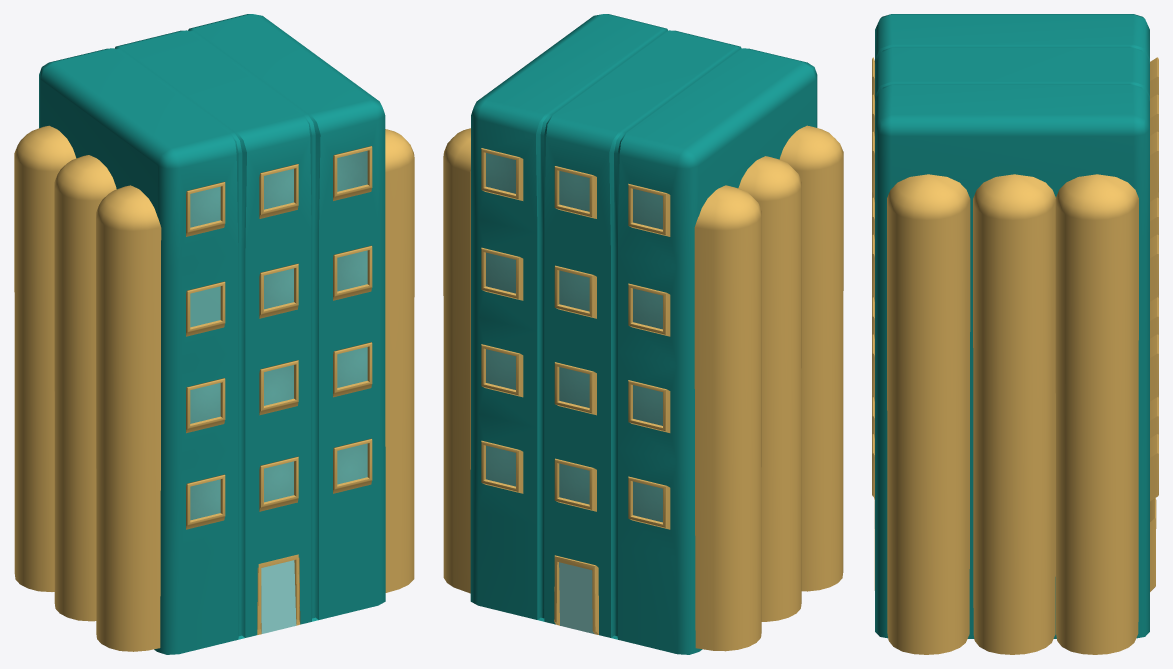
The model's file is SM_Skyscraper_17.fbx.
3 renders of one model, left to right at view 1: azimuth 30°, elevation 25°; view 2: azimuth 150°, elevation 25°; view 3: azimuth 270°, elevation 25°, orthographic. The views are drawn at different scales.
Visible parts, largest first — view 1: SM_Skyscraper_17; view 2: SM_Skyscraper_17; view 3: SM_Skyscraper_17.
Boxes of the visible parts, x1,y1,x2,y2 form: SM_Skyscraper_17: (14,14,414,654); SM_Skyscraper_17: (443,14,843,654); SM_Skyscraper_17: (872,14,1158,654).
Size of the model in its own units: 997 by 1545 by 777.
